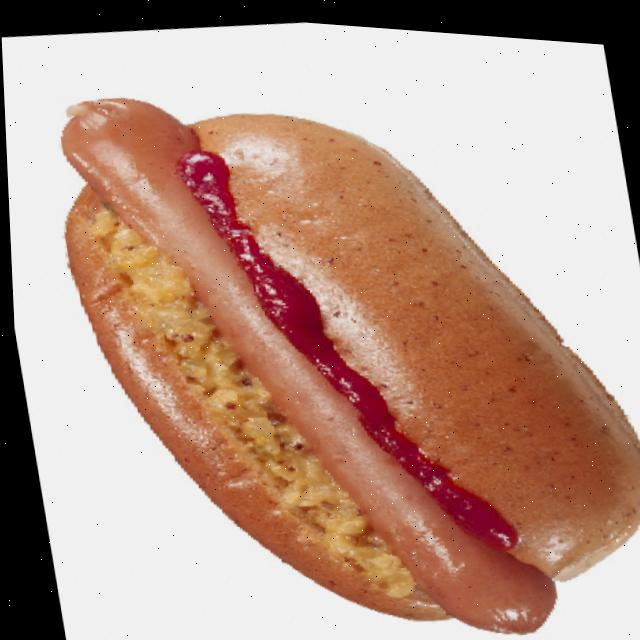汉堡快餐: (0, 9, 640, 640)
